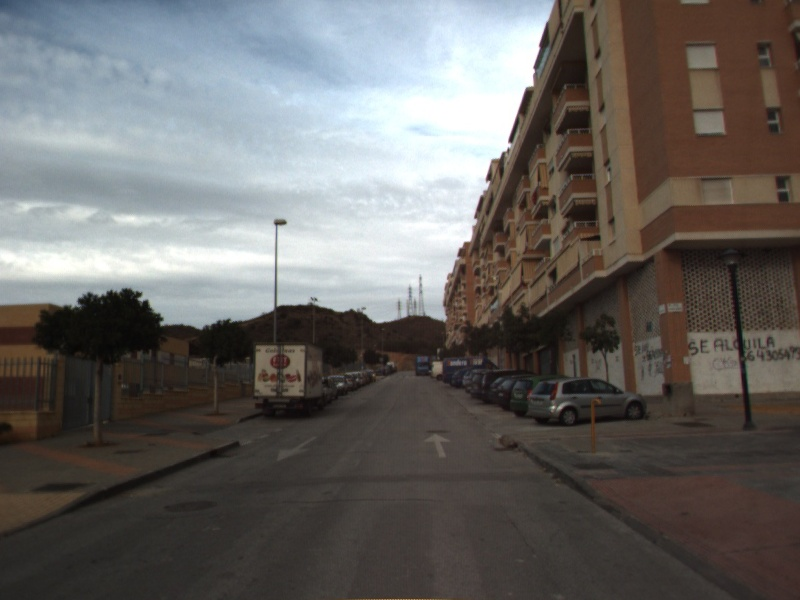STRAIGHT: (422, 431, 453, 459)
